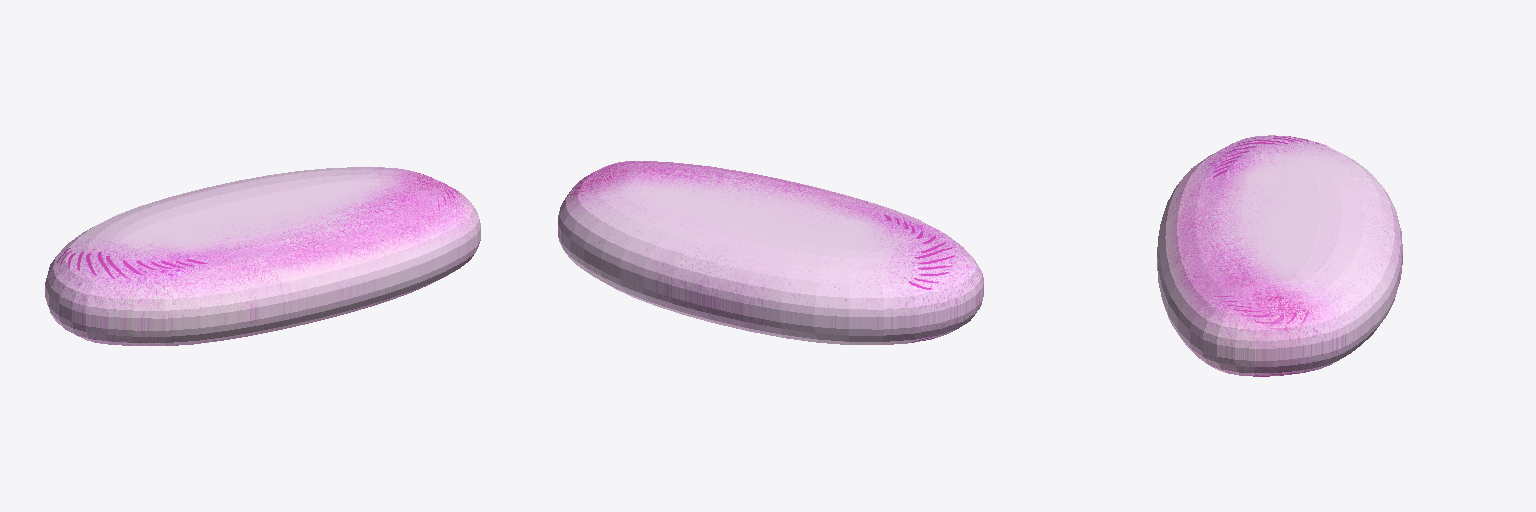
3 views of the same model, side by side, from view 1: azimuth 30°, elevation 25°; view 2: azimuth 150°, elevation 25°; view 3: azimuth 270°, elevation 25° (orthographic).
Visible parts, largest first — view 1: Cloud_Maru_005; view 2: Cloud_Maru_005; view 3: Cloud_Maru_005.
Part boxes in pixels (x1,y1,x2,y2): Cloud_Maru_005: (45,167,480,345); Cloud_Maru_005: (558,161,983,344); Cloud_Maru_005: (1157,135,1402,376).
Size of the model in its own units: 0.7763 by 0.149 by 0.4074.
1 materials, 1 textured.